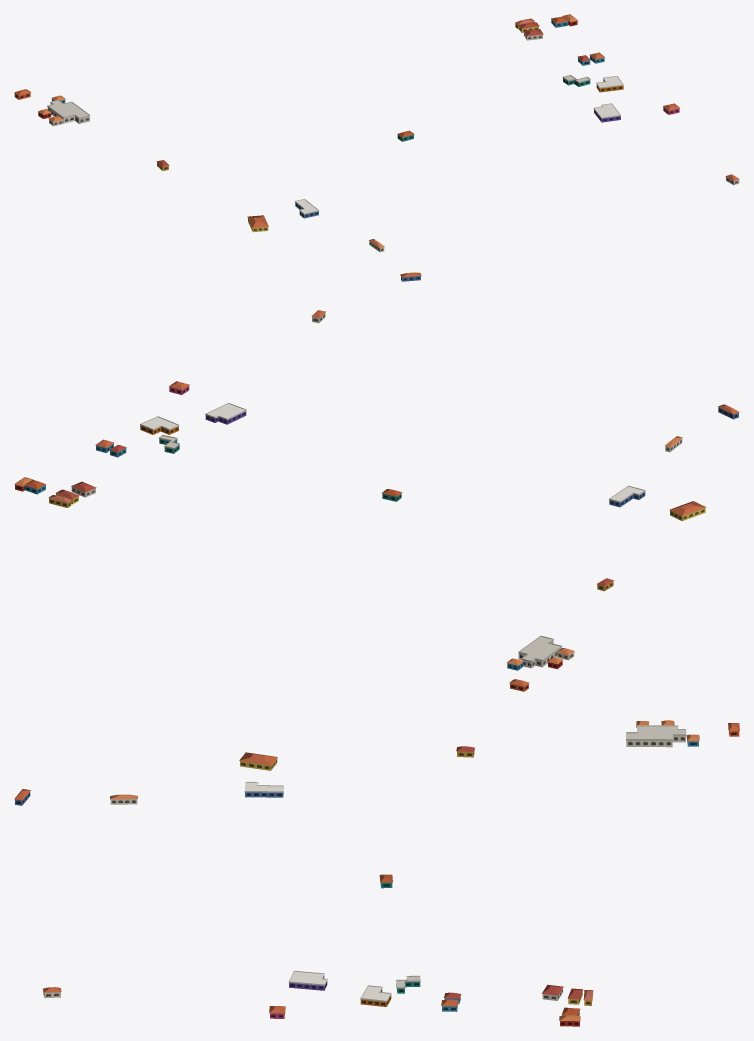
Rendered from msb_oranjestad_m11_m1.glb.
3 views of the same model, one above another, from view 1: azimuth 30°, elevation 25°; view 2: azimuth 150°, elevation 25°; view 3: azimuth 270°, elevation 25° (orthographic). The views are drawn at different scales.
Visible parts, largest first — view 1: msb_oranjestad_m11_m1_lod0; view 2: msb_oranjestad_m11_m1_lod0; view 3: msb_oranjestad_m11_m1_lod0.
Boxes of the visible parts, box(x1,y1,x2,y2) form: msb_oranjestad_m11_m1_lod0: box(14, 14, 739, 281); msb_oranjestad_m11_m1_lod0: box(14, 310, 739, 691); msb_oranjestad_m11_m1_lod0: box(14, 720, 739, 1026).
Size of what is drawn, in the model's own units: 399 by 11.67 by 402.
Materials: 3 (1 with a texture image).
